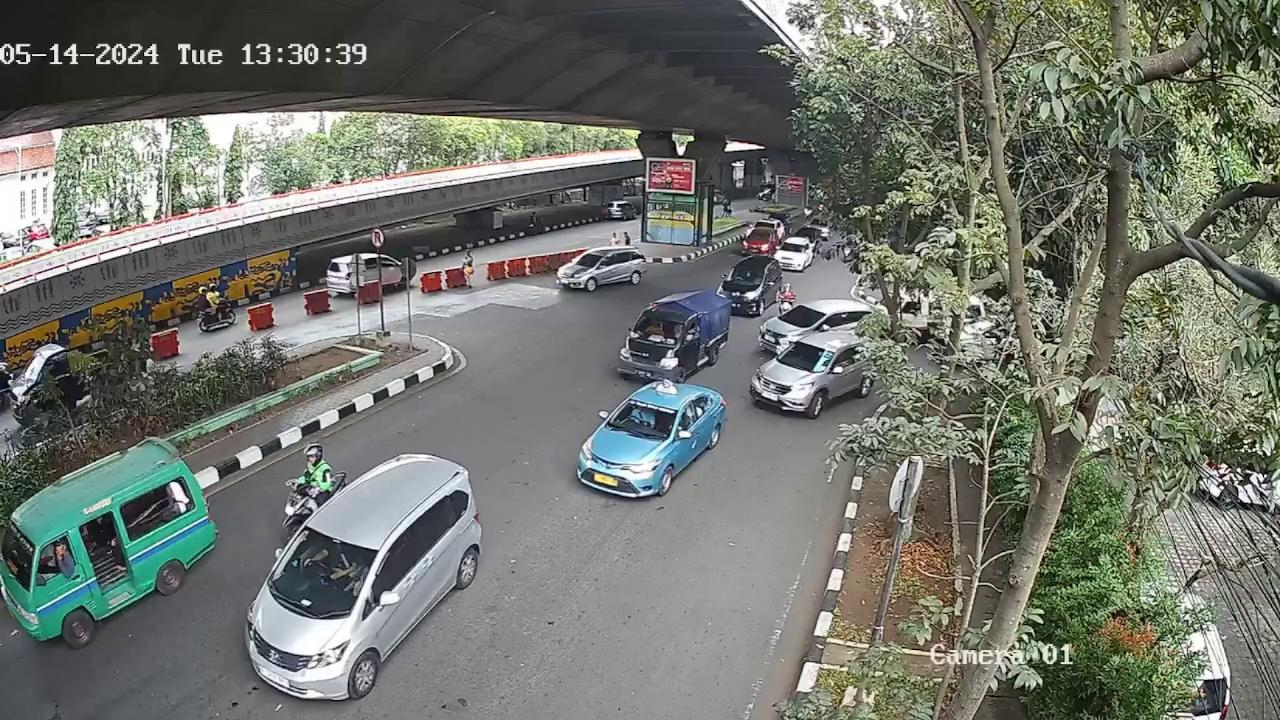pakai: (626, 406, 654, 435)
tidak-pakai: (644, 321, 668, 341)
windshield: (274, 526, 379, 612), (609, 398, 678, 446), (630, 316, 685, 347)
